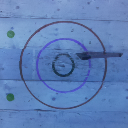Axe Tip: (76, 54, 87, 56)
